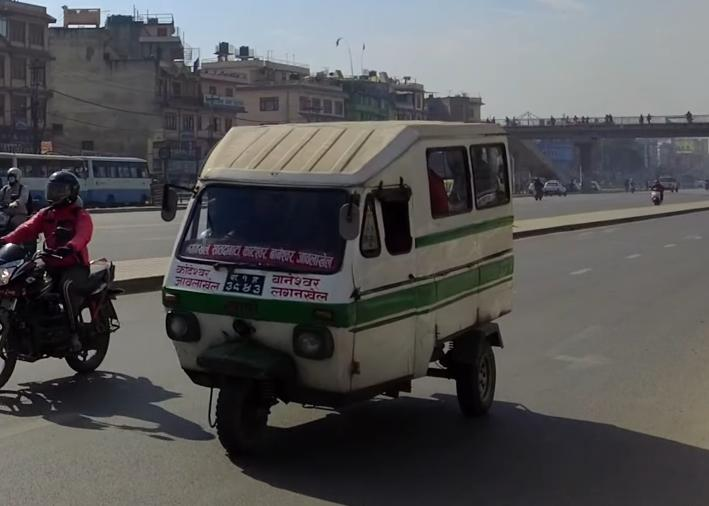bike: (0, 227, 119, 395)
bus: (74, 150, 157, 215)
tempo: (162, 112, 526, 466)
